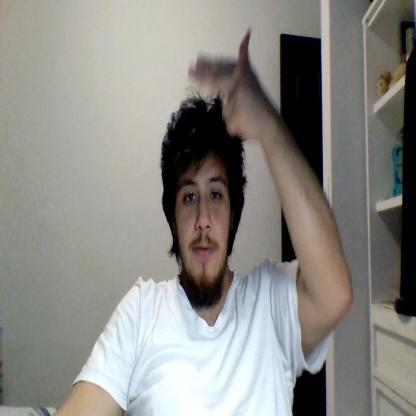H: (188, 27, 263, 140)
